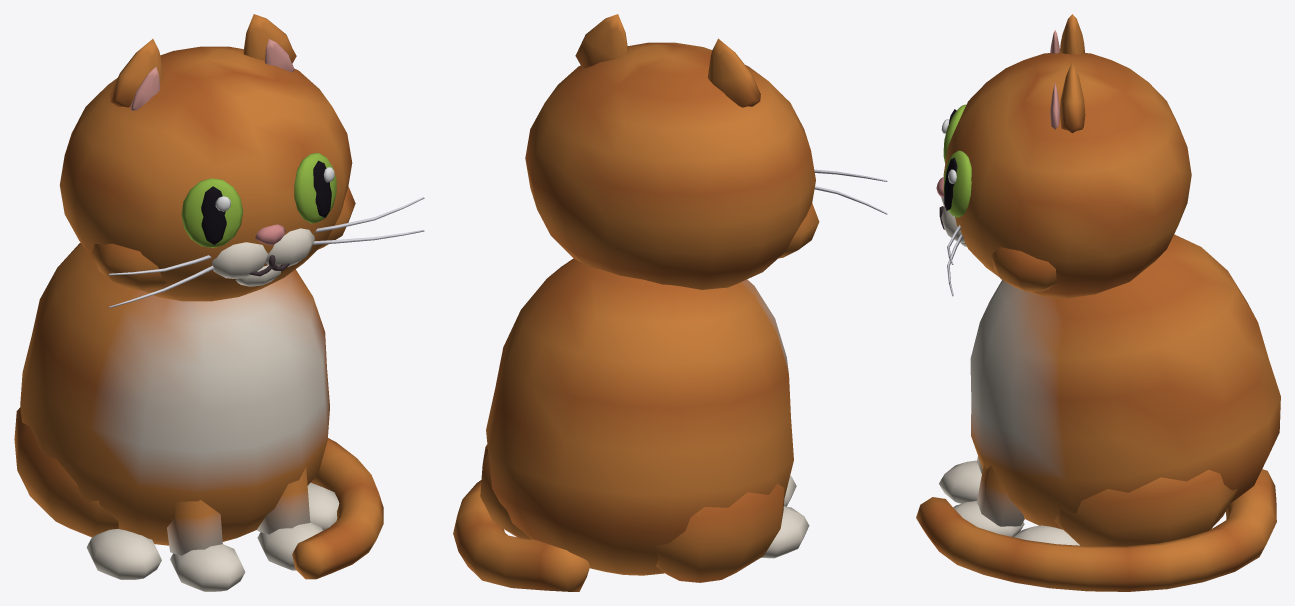
File: cat_ginger.glb
3 renders of one model, left to right at view 1: azimuth 30°, elevation 25°; view 2: azimuth 150°, elevation 25°; view 3: azimuth 270°, elevation 25°, orthographic. The views are drawn at different scales.
Visible parts, largest first — view 1: cat_ginger, tail; view 2: cat_ginger, tail; view 3: cat_ginger, tail.
Boxes of the visible parts, left/top/right/bottom form: cat_ginger: left=14, top=14, right=424, bottom=591; tail: left=292, top=438, right=383, bottom=579; cat_ginger: left=480, top=14, right=887, bottom=582; tail: left=453, top=480, right=589, bottom=591; cat_ginger: left=936, top=14, right=1280, bottom=546; tail: left=916, top=469, right=1276, bottom=591.
Size of the model in its own units: 0.2326 by 0.3531 by 0.2392.
